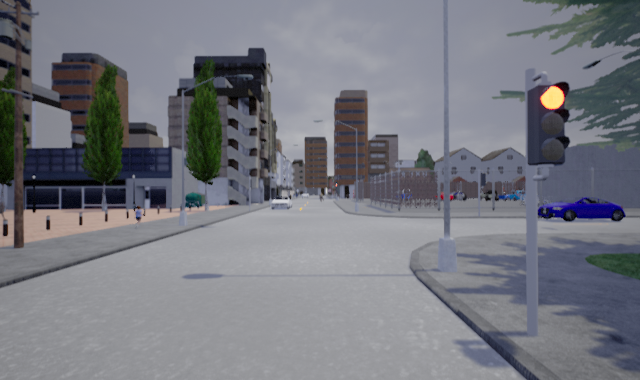pedestrian: (130, 204, 147, 228)
vehicle: (535, 196, 625, 222), (476, 187, 498, 203), (270, 197, 293, 210), (497, 191, 521, 202), (448, 191, 469, 200)
